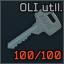OLI outlet utility room key: (0, 0, 64, 64)
